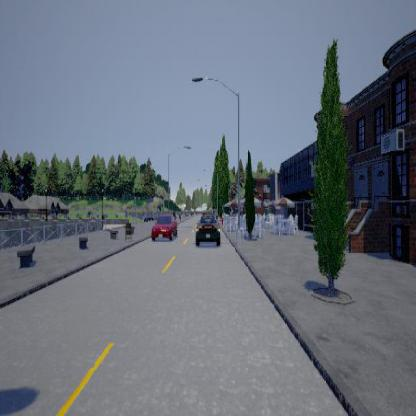vehicle: (195, 212, 220, 246), (151, 213, 177, 240)
